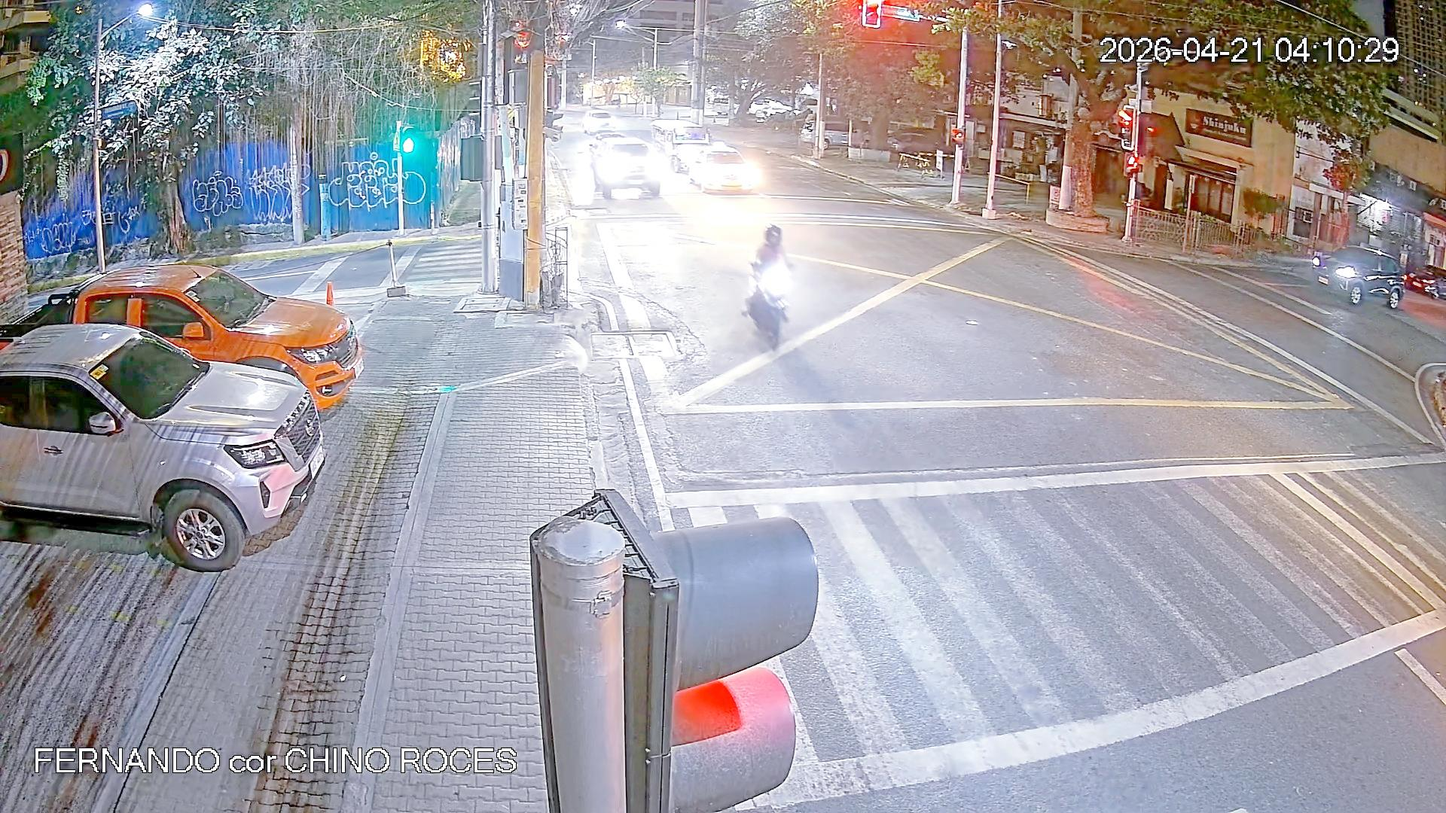Car: (2, 320, 333, 560), (30, 265, 383, 428), (1309, 247, 1396, 323), (590, 145, 667, 212), (688, 149, 761, 199), (800, 112, 877, 155), (577, 100, 619, 140), (714, 86, 733, 124)
Motor: (725, 219, 811, 362)
